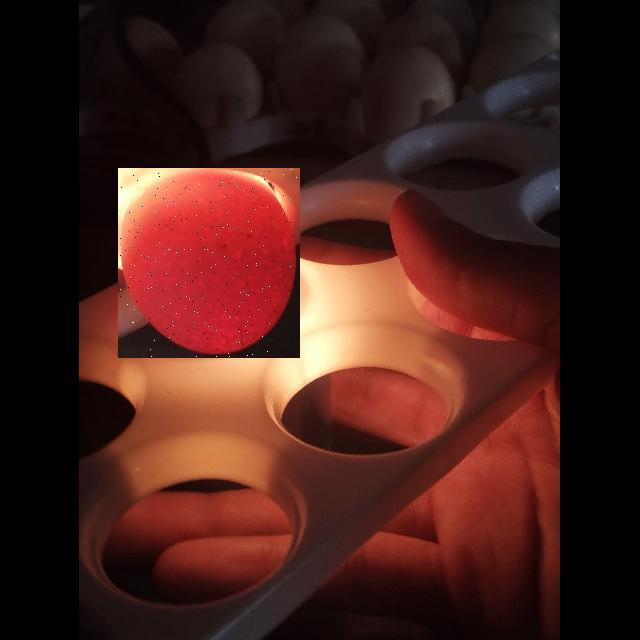Infertile: (118, 168, 300, 358)
